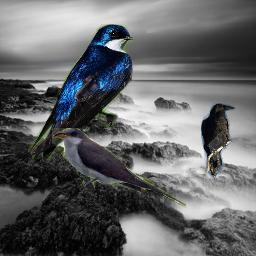Crow: (201, 103, 236, 180)
Cuckoo: (52, 128, 186, 209)
Swallow: (28, 24, 135, 161)
